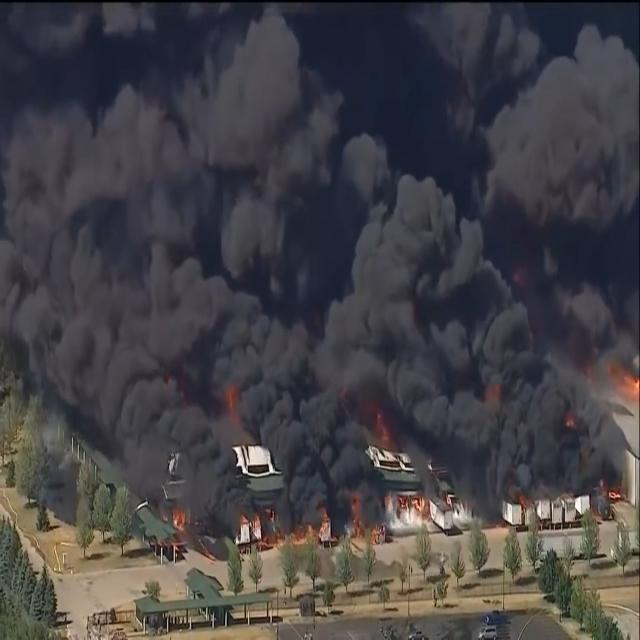Fire: (238, 508, 328, 546), (606, 354, 640, 402), (222, 379, 247, 425), (369, 406, 394, 452), (348, 493, 370, 540), (166, 508, 188, 528)
Smoke: (0, 0, 629, 519), (336, 0, 639, 380)
